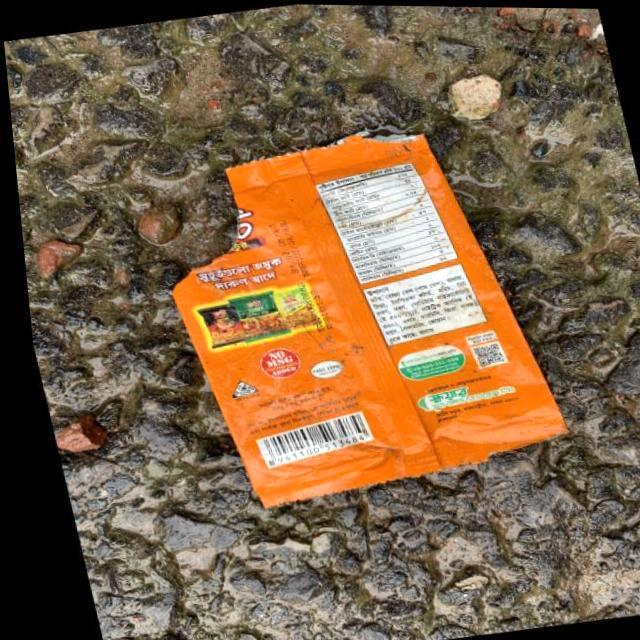packet: (130, 118, 542, 510)
